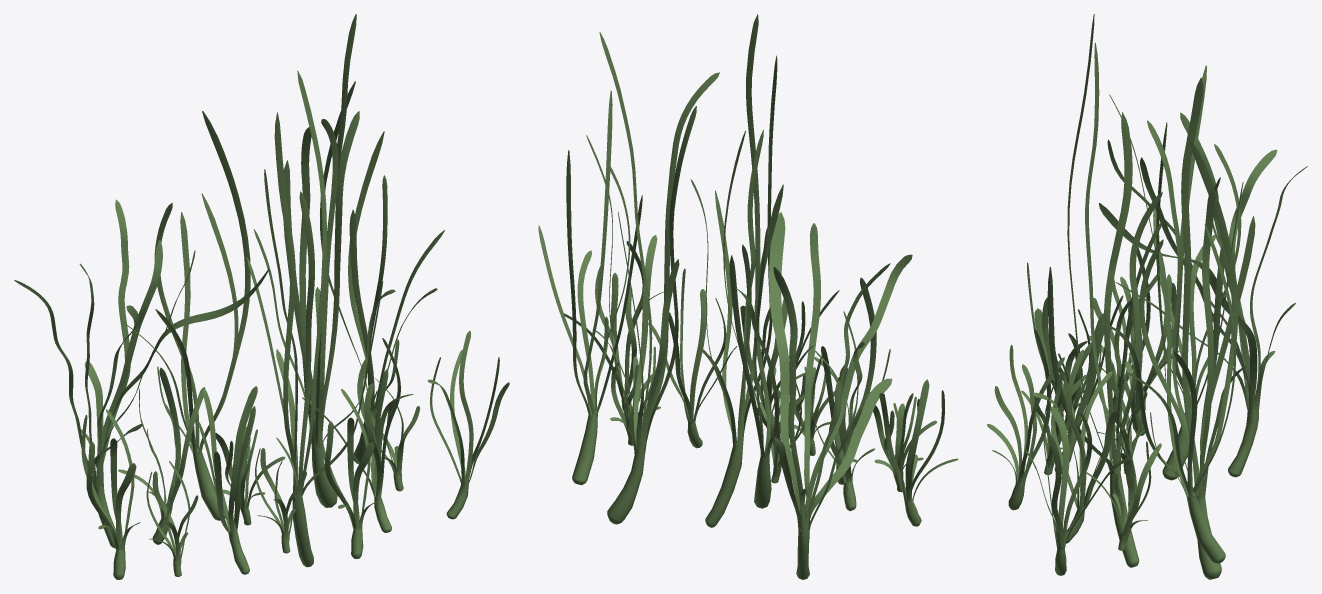
The model's file is seagrass0.glb.
The picture shows the model from 3 angles, left to right: view 1: azimuth 30°, elevation 25°; view 2: azimuth 150°, elevation 25°; view 3: azimuth 270°, elevation 25°; orthographic projection. The views are drawn at different scales.
Parts seen in each view (by area): view 1: SM_SeaGrass_01; view 2: SM_SeaGrass_01; view 3: SM_SeaGrass_01.
Boxes of the visible parts, <box> form: SM_SeaGrass_01: <box>14,14,509,579</box>; SM_SeaGrass_01: <box>538,14,958,579</box>; SM_SeaGrass_01: <box>987,14,1307,579</box>.
Size of the model in its own units: 1.42 by 1.81 by 0.9745.
